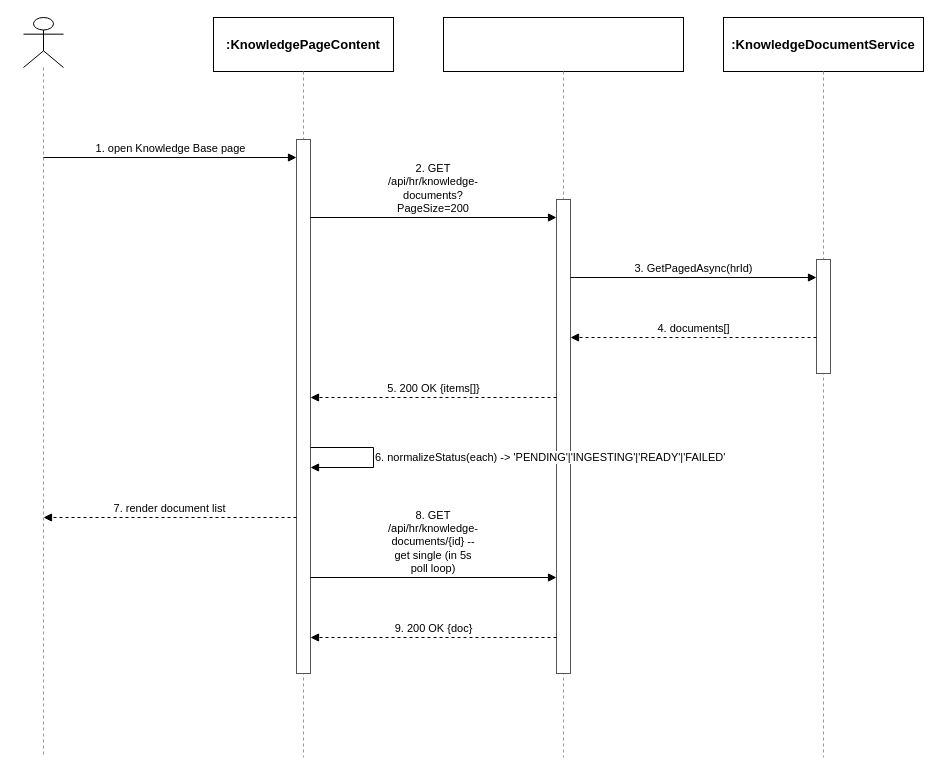
The diagram is 941 pixels wide and 776 high, and some of its shapes have lost their labels. The shapes that lost their labels are listed below. From the top down, each one's box as (x1, y1, x2, y2) in pixels, then its label:
(22, 16, 64, 68): HR Manager
(442, 16, 684, 72): :HrKnowledgeDocumentsController
